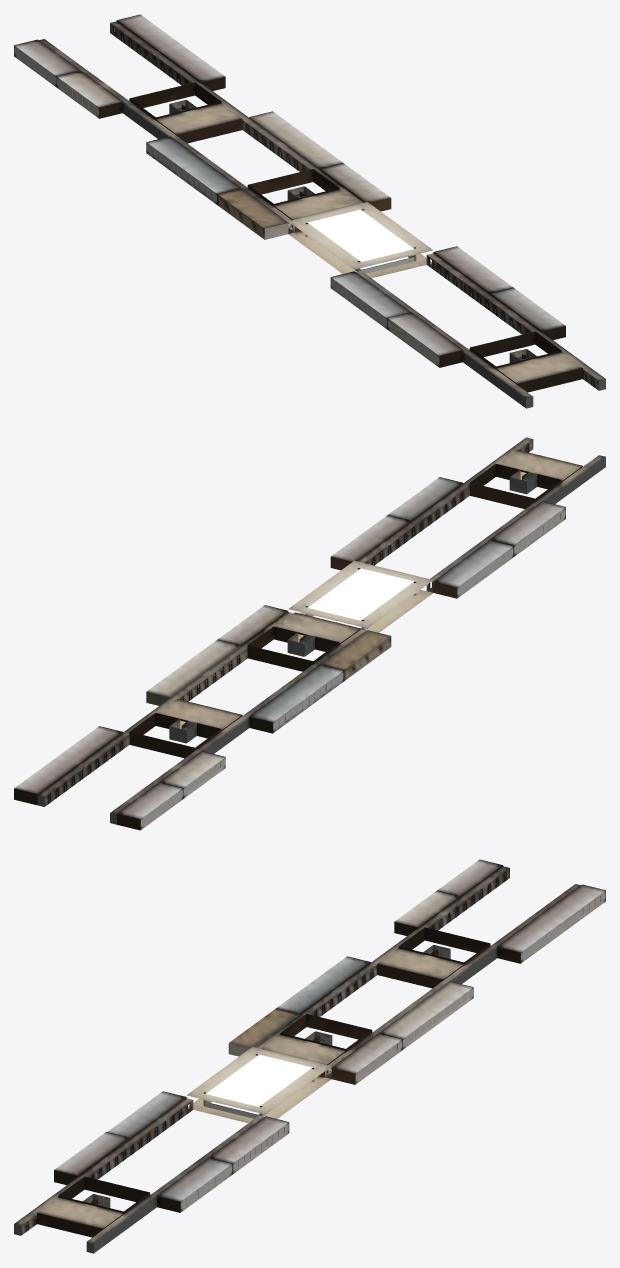
File: deck8.glb
The picture shows the model from 3 angles, top to bottom: view 1: azimuth 30°, elevation 25°; view 2: azimuth 150°, elevation 25°; view 3: azimuth 330°, elevation 25°; orthographic projection.
Visible parts, largest first — view 1: kr_decke, kr_holz, kr_wand, kr_leuchte, kr_glas, kr_marmor, kr_teppich_flur; view 2: kr_decke, kr_holz, kr_wand, kr_leuchte, kr_glas, kr_marmor; view 3: kr_decke, kr_holz, kr_wand, kr_leuchte, kr_glas, kr_marmor, kr_teppich_flur.
Part boxes in pixels (bbox=[...]): kr_decke: bbox=[14, 14, 604, 398]; kr_holz: bbox=[14, 15, 593, 392]; kr_wand: bbox=[14, 21, 605, 408]; kr_leuchte: bbox=[307, 209, 516, 353]; kr_glas: bbox=[14, 47, 438, 363]; kr_marmor: bbox=[180, 109, 527, 360]; kr_teppich_flur: bbox=[114, 32, 593, 386]; kr_decke: bbox=[14, 437, 604, 819]; kr_holz: bbox=[14, 443, 582, 830]; kr_wand: bbox=[37, 437, 605, 829]; kr_leuchte: bbox=[307, 568, 413, 620]; kr_glas: bbox=[141, 510, 565, 826]; kr_marmor: bbox=[180, 471, 536, 730]; kr_decke: bbox=[15, 859, 605, 1243]; kr_holz: bbox=[26, 860, 605, 1237]; kr_wand: bbox=[14, 866, 605, 1253]; kr_leuchte: bbox=[103, 1054, 312, 1198]; kr_glas: bbox=[181, 892, 605, 1208]; kr_marmor: bbox=[83, 952, 431, 1203]; kr_teppich_flur: bbox=[26, 877, 505, 1231].
Bounding box in the file's own units: 30.94 × 3 × 207.
